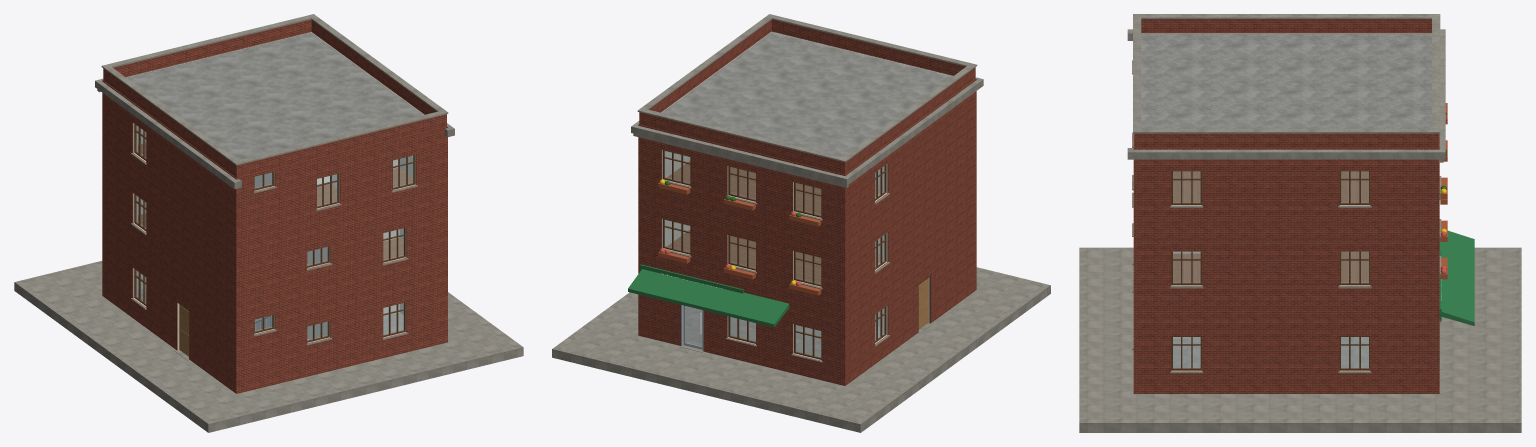
The model's file is b_bookstore_cafe.gltf.
3 renders of one model, left to right at view 1: azimuth 30°, elevation 25°; view 2: azimuth 150°, elevation 25°; view 3: azimuth 270°, elevation 25°, orthographic. The views are drawn at different scales.
Visible parts, largest first — view 1: S_bookstore_cafe; view 2: S_bookstore_cafe, D_bookstore_cafe_F1_S2_Door0, D_bookstore_cafe_F1_E1_Door0; view 3: S_bookstore_cafe.
Boxes of the visible parts, left/top/right/bottom form: S_bookstore_cafe: left=14, top=14, right=523, bottom=432; S_bookstore_cafe: left=552, top=14, right=1050, bottom=432; D_bookstore_cafe_F1_S2_Door0: left=683, top=305, right=702, bottom=349; D_bookstore_cafe_F1_E1_Door0: left=918, top=278, right=928, bottom=329; S_bookstore_cafe: left=1079, top=14, right=1521, bottom=432.
Bounding box in the file's own units: 15 × 10.86 × 16.
22 materials, 11 textured.
